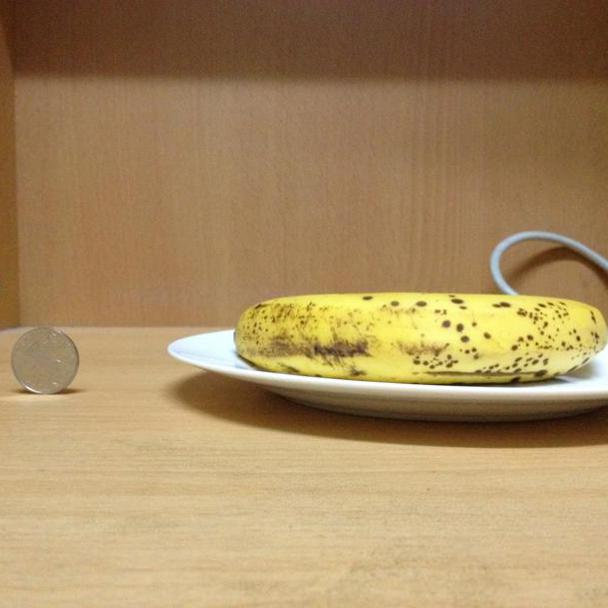banana: (235, 290, 606, 381)
